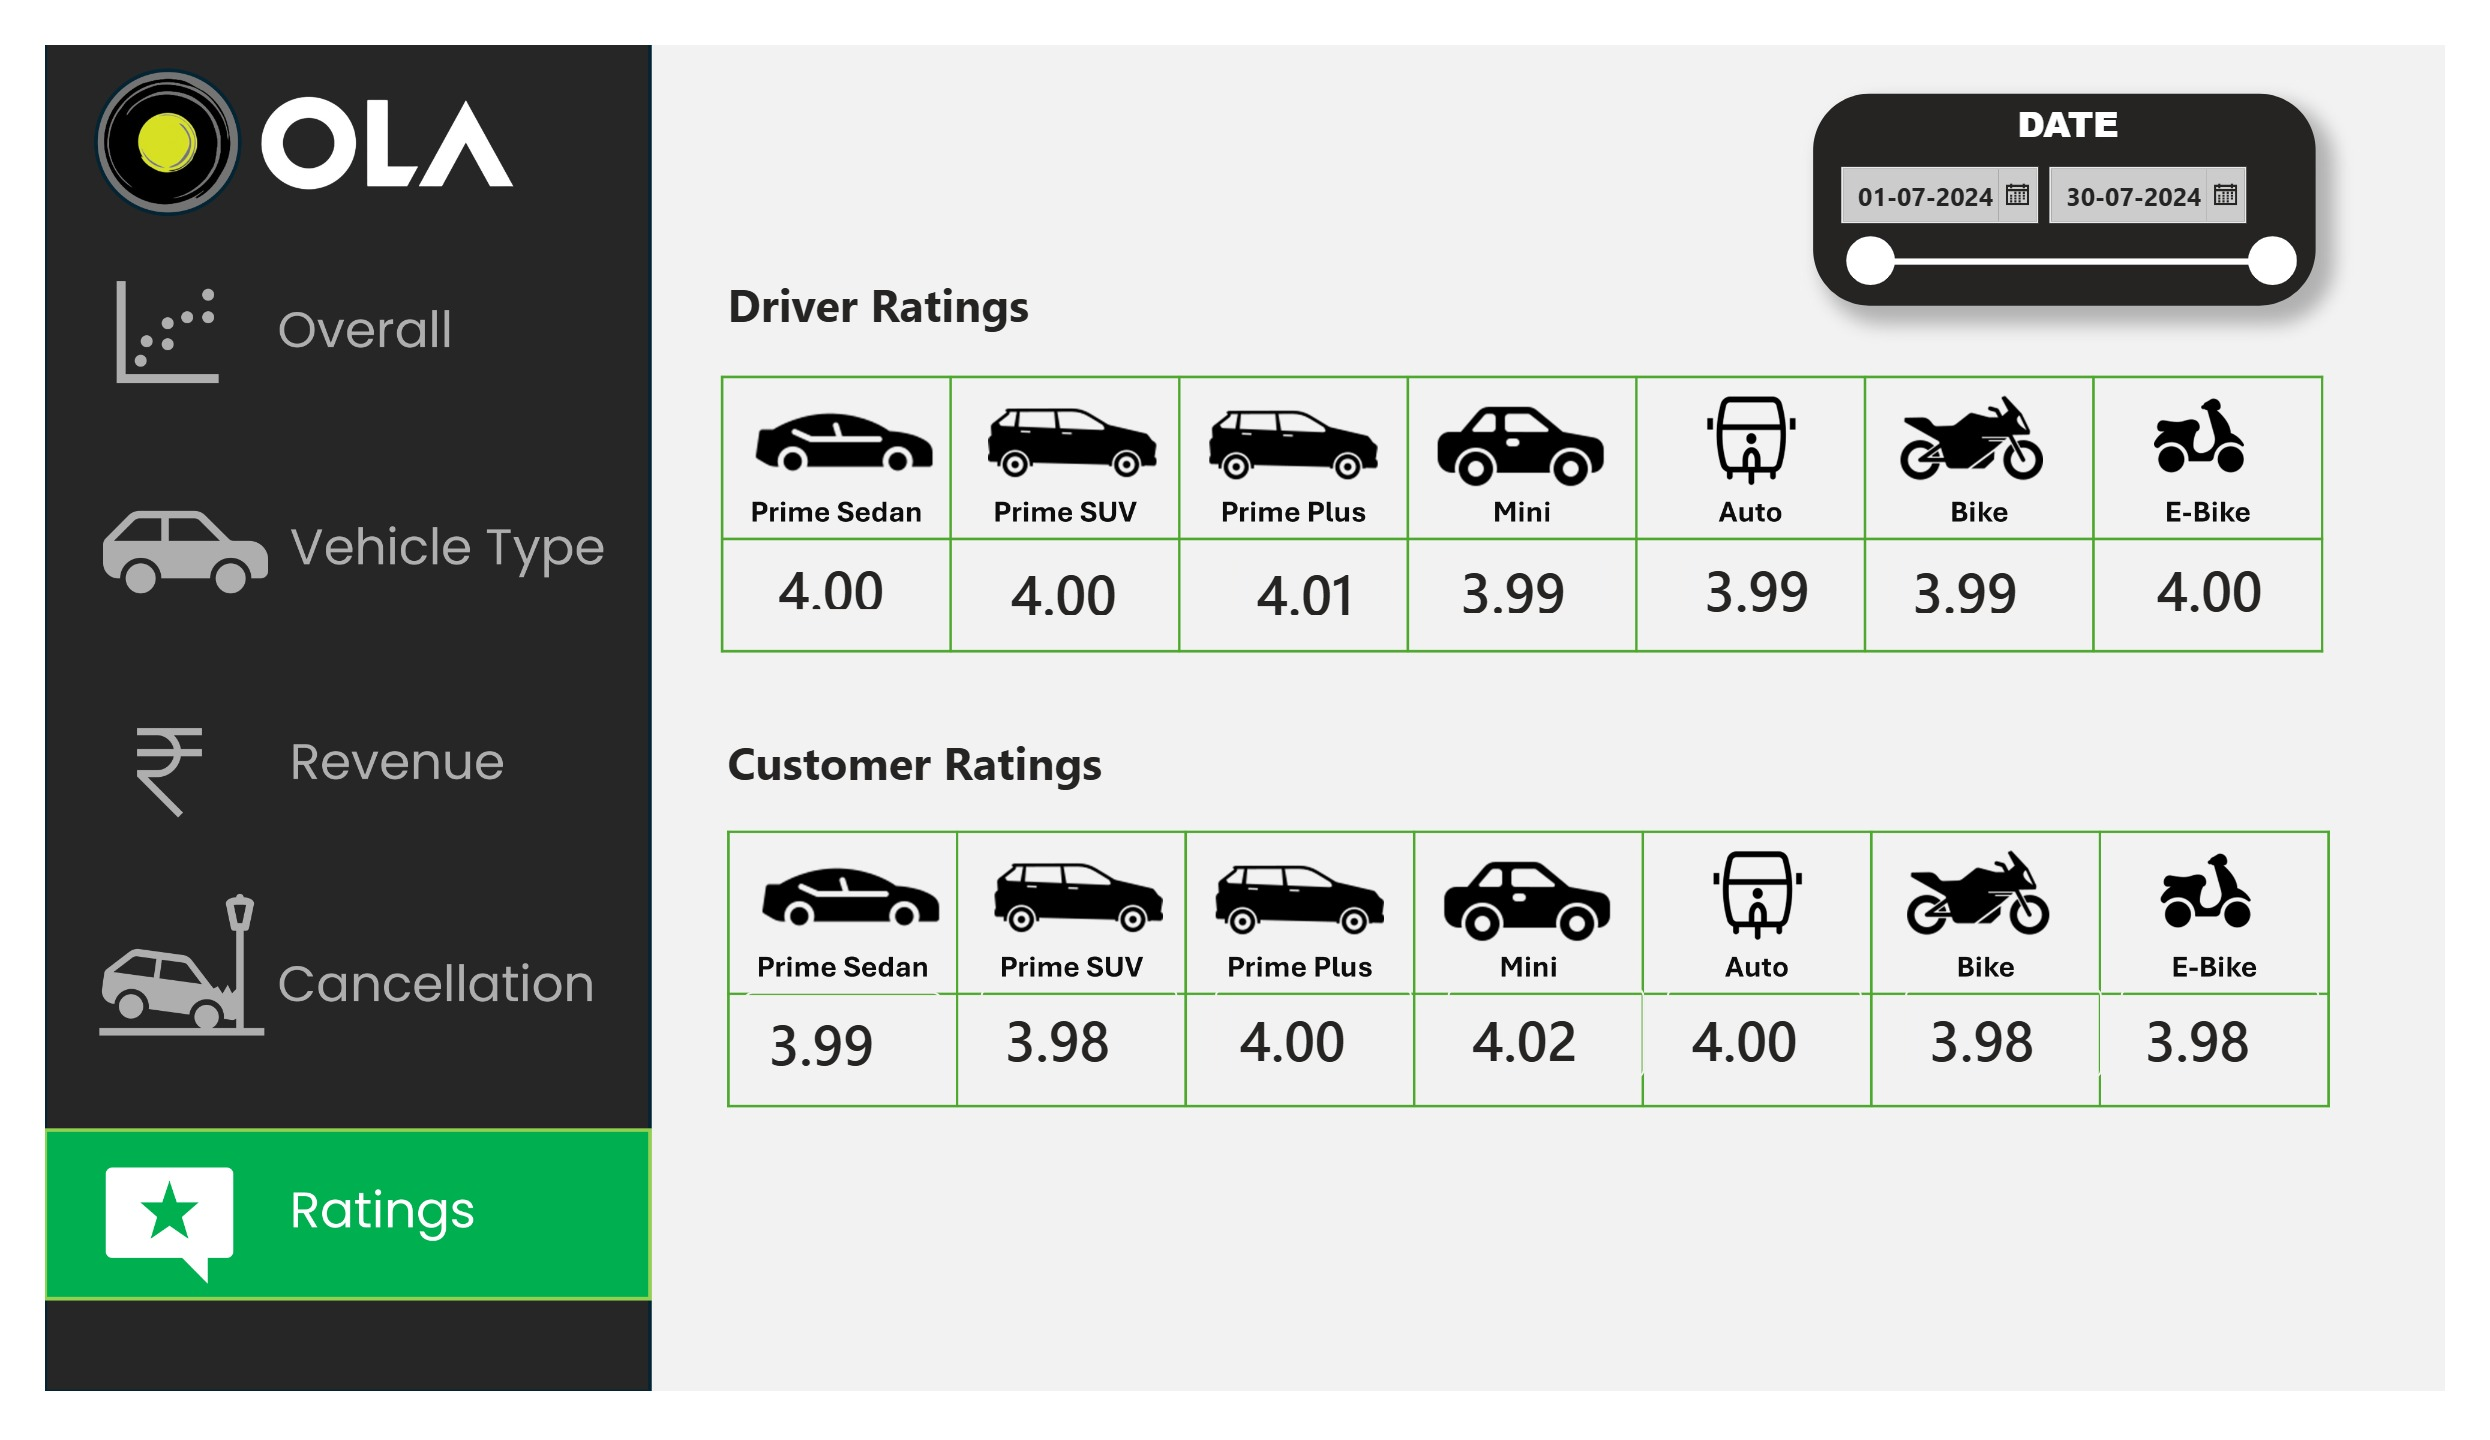

The dashboard page shown, as its layout file describes it:
{"tool":"powerbi","page":{"name":"Ratings","canvas":[1280,720],"ordinal":4},"visuals":[{"type":"actionButton","box":[0,225.9,324.5,89.1],"z":0},{"type":"actionButton","box":[0,337.2,324.5,89.1],"z":1000},{"type":"actionButton","box":[0,459.7,324.5,89.1],"z":2000},{"type":"actionButton","box":[0,108.2,324.5,89.1],"z":3000},{"type":"cardVisual","fields":{"Data":["Avg(Bookings.Driver_Ratings)"]},"box":[361,261,116.1,53],"z":4000},{"type":"cardVisual","fields":{"Data":["Avg(Bookings.Driver_Ratings)"]},"box":[485.1,262.5,119.3,54.1],"z":5000},{"type":"cardVisual","fields":{"Data":["Avg(Bookings.Driver_Ratings)"]},"box":[615.6,262.5,120.9,54.1],"z":6000},{"type":"cardVisual","fields":{"Data":["Avg(Bookings.Driver_Ratings)"]},"box":[725.1,261.3,129.6,54.7],"z":7000},{"type":"cardVisual","fields":{"Data":["Avg(Bookings.Driver_Ratings)"]},"box":[854.7,259.2,125.6,56.7],"z":8000},{"type":"cardVisual","fields":{"Data":["Avg(Bookings.Driver_Ratings)"]},"box":[966.1,261.3,129.6,54.7],"z":9000},{"type":"cardVisual","fields":{"Data":["Avg(Bookings.Driver_Ratings)"]},"box":[1095.7,259.2,115.4,56.7],"z":10000},{"type":"cardVisual","fields":{"Data":["Avg(Bookings.Customer_Rating)"]},"box":[1095.2,491,129.7,71.7],"z":10001},{"type":"cardVisual","fields":{"Data":["Avg(Bookings.Customer_Rating)"]},"box":[979.8,491.5,128.8,71.6],"z":10002},{"type":"cardVisual","fields":{"Data":["Avg(Bookings.Customer_Rating)"]},"box":[852.6,491.5,128.8,71.6],"z":10003},{"type":"cardVisual","fields":{"Data":["Avg(Bookings.Customer_Rating)"]},"box":[736.5,491.5,128.8,71.6],"z":10004},{"type":"cardVisual","fields":{"Data":["Avg(Bookings.Customer_Rating)"]},"box":[612.4,491.5,128.8,71.6],"z":10005},{"type":"cardVisual","fields":{"Data":["Avg(Bookings.Customer_Rating)"]},"box":[486.7,491.5,128.8,71.6],"z":10006},{"type":"cardVisual","fields":{"Data":["Avg(Bookings.Customer_Rating)"]},"box":[361.1,493.1,128.8,71.6],"z":10007},{"type":"textbox","box":[359.4,117.1,184.7,43.7],"z":10008},{"type":"textbox","box":[359.4,361.4,220.4,43.7],"z":10009},{"type":"slicer","title":"DATE","fields":{"Values":["Bookings (2).Date"]},"box":[943.1,25.8,268,113.2],"z":10010}]}

Visuals, with their boxes in screenshot pixels (x1, y1, x2, y2), scaled from the page's 1280x720 canvas onto the 2490x1440 screenshot:
actionButton: [0,452,631,630]
actionButton: [0,674,631,853]
actionButton: [0,919,631,1098]
actionButton: [0,216,631,395]
cardVisual - Avg(Bookings.Driver_Ratings): [702,522,928,628]
cardVisual - Avg(Bookings.Driver_Ratings): [944,525,1176,633]
cardVisual - Avg(Bookings.Driver_Ratings): [1198,525,1433,633]
cardVisual - Avg(Bookings.Driver_Ratings): [1411,523,1663,632]
cardVisual - Avg(Bookings.Driver_Ratings): [1663,518,1907,632]
cardVisual - Avg(Bookings.Driver_Ratings): [1879,523,2131,632]
cardVisual - Avg(Bookings.Driver_Ratings): [2131,518,2356,632]
cardVisual - Avg(Bookings.Customer_Rating): [2131,982,2383,1125]
cardVisual - Avg(Bookings.Customer_Rating): [1906,983,2157,1126]
cardVisual - Avg(Bookings.Customer_Rating): [1659,983,1909,1126]
cardVisual - Avg(Bookings.Customer_Rating): [1433,983,1683,1126]
cardVisual - Avg(Bookings.Customer_Rating): [1191,983,1442,1126]
cardVisual - Avg(Bookings.Customer_Rating): [947,983,1197,1126]
cardVisual - Avg(Bookings.Customer_Rating): [702,986,953,1129]
textbox: [699,234,1058,322]
textbox: [699,723,1128,810]
"DATE" slicer: [1835,52,2356,278]
